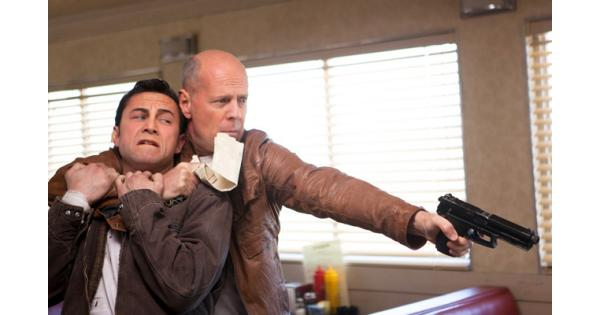gun: (436, 192, 541, 264)
